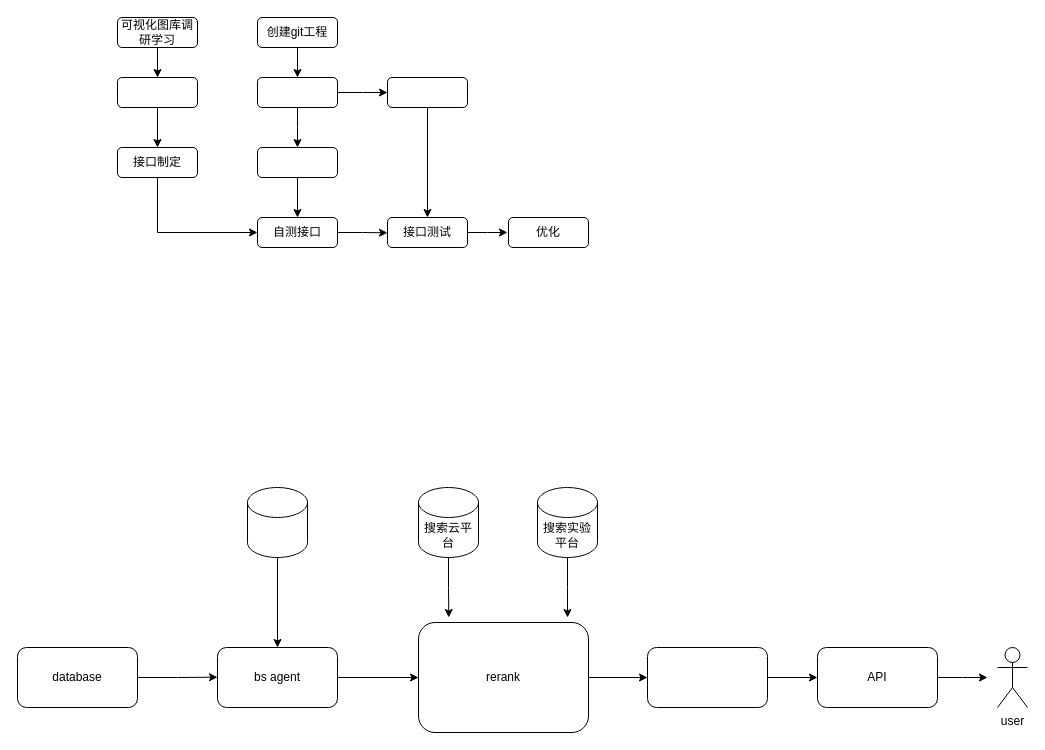
Some shapes in this 1045 by 750 pixel diagram are drawn without their labels. Each missing label, with the centre of its shape:
"mock数据-yapi" goes at pixel 297 162.
"MS" goes at pixel 707 677.
"plus发布环境搭建" goes at pixel 427 92.
"poker画布数据结构整理" goes at pixel 157 92.
"云搜" goes at pixel 277 522.
"搭建vue框架" goes at pixel 297 92.
